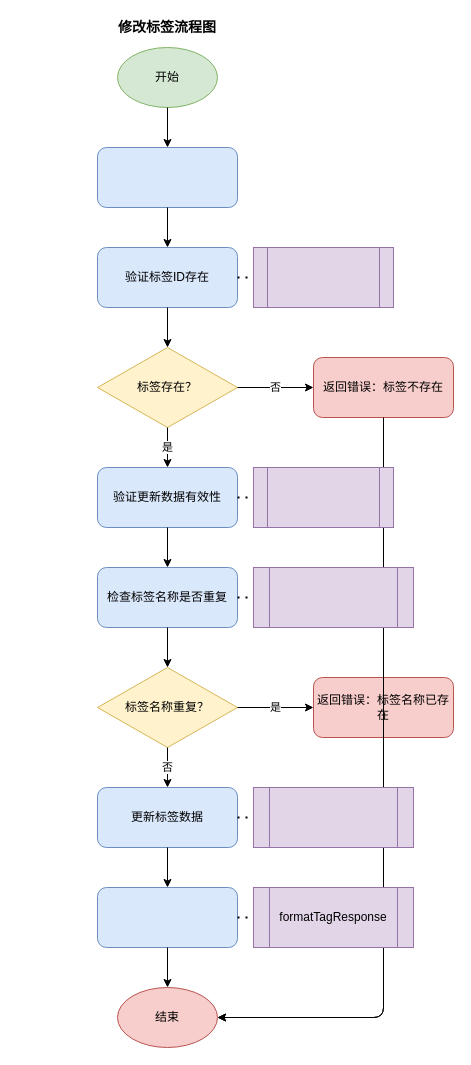
This 471x1065 diagram has some shape labels left out. The shapes that lost their labels are listed below. From the top down, each one's centre as x and y in pixels, then its label:
(x=167, y=177): 接收UpdateTagDto
(x=323, y=277): findTagById
(x=323, y=497): validateTagData
(x=333, y=597): checkTagNameDuplicate
(x=333, y=817): updateTagInDatabase
(x=167, y=917): 返回更新后的标签对象
